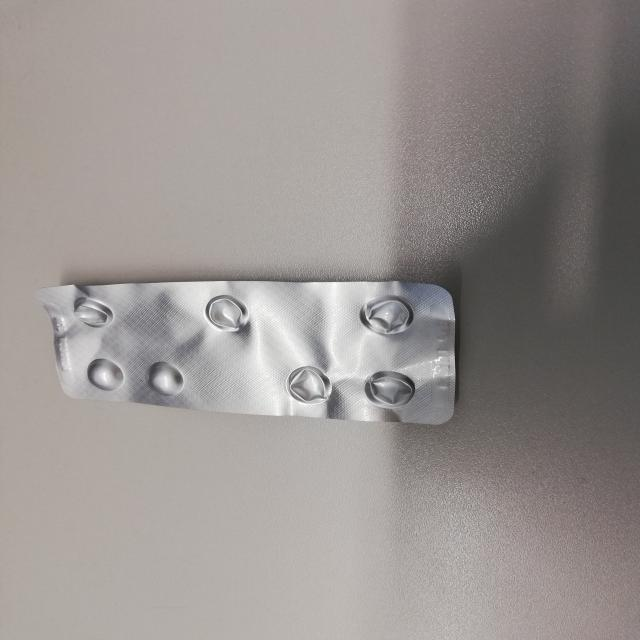Empty: (355, 291, 422, 337), (283, 363, 343, 408), (361, 369, 420, 412), (198, 291, 253, 333), (70, 294, 116, 329)
Pill: (143, 362, 188, 398), (85, 357, 126, 392)
